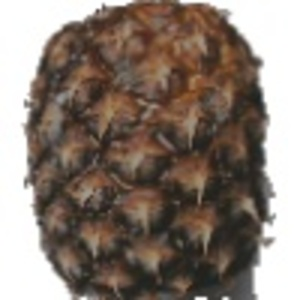abacaxi: (20, 1, 273, 288)
